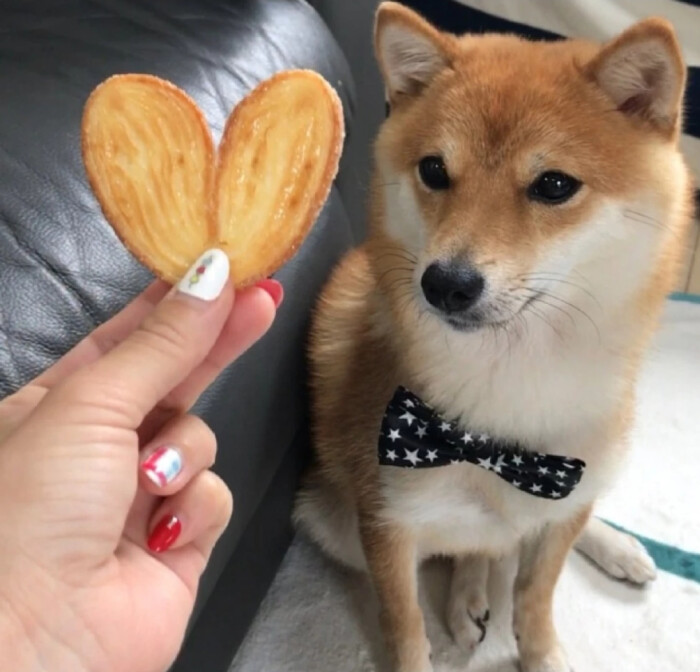dog: (309, 4, 690, 670)
